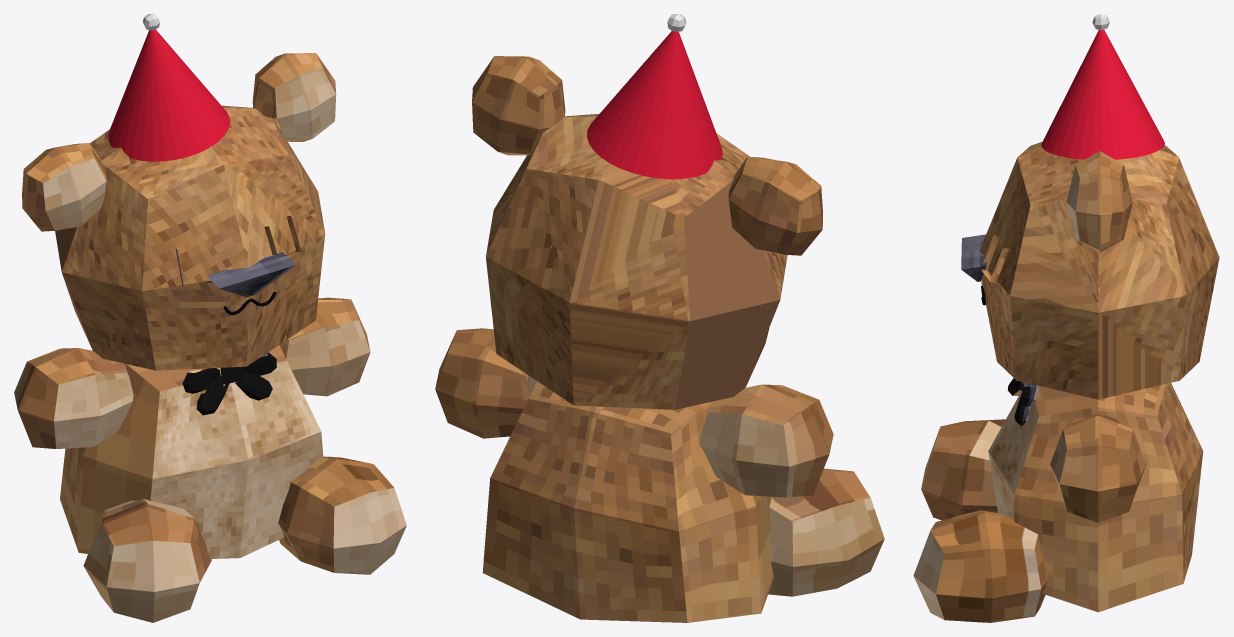
Rendered from is_this_freddy_fazzbear.fbx.
3 views of the same model, side by side, from view 1: azimuth 30°, elevation 25°; view 2: azimuth 150°, elevation 25°; view 3: azimuth 270°, elevation 25° (orthographic). The views are drawn at different scales.
Visible parts, largest first — view 1: Cubo.006; view 2: Cubo.006; view 3: Cubo.006.
Part boxes in pixels (bbox=[...]): Cubo.006: bbox=[14, 14, 406, 622]; Cubo.006: bbox=[435, 14, 884, 622]; Cubo.006: bbox=[913, 14, 1219, 622].
Size of the model in its own units: 278 by 411 by 210.
